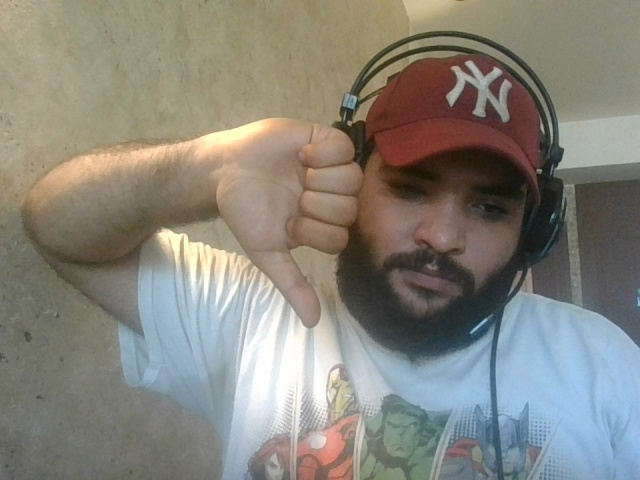no: (215, 116, 364, 330)
